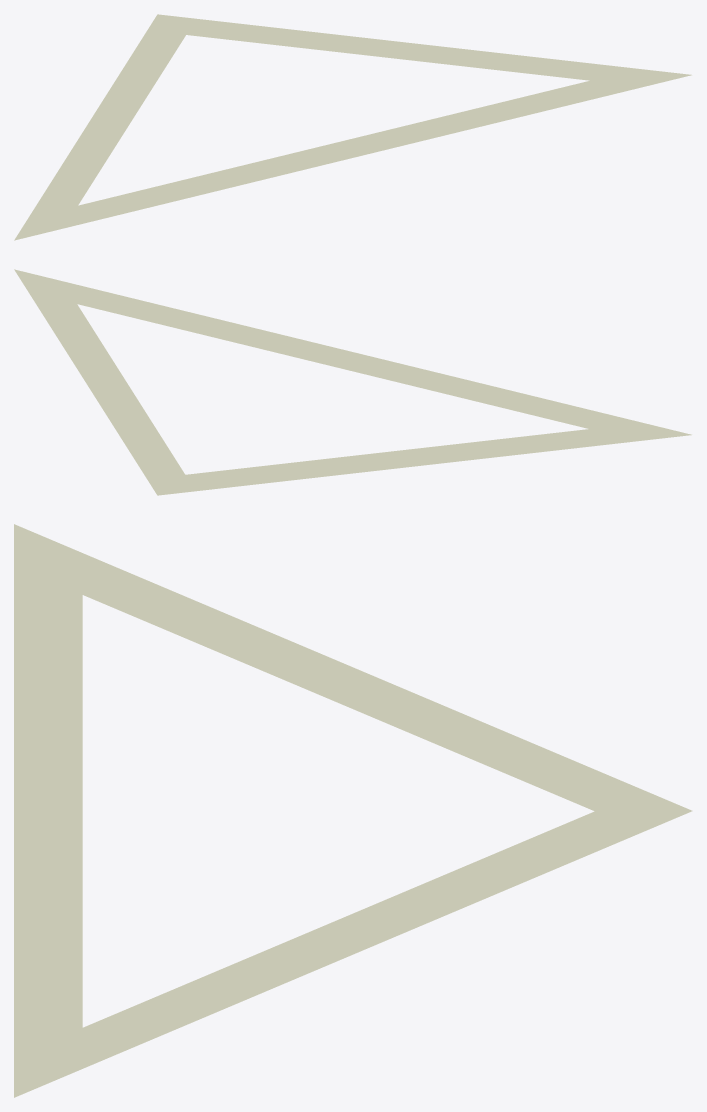
Rendered from triangle.fbx.
The picture shows the model from 3 angles, top to bottom: view 1: azimuth 30°, elevation 25°; view 2: azimuth 150°, elevation 25°; view 3: azimuth 270°, elevation 25°; orthographic projection. The views are drawn at different scales.
Parts seen in each view (by area): view 1: Model; view 2: Model; view 3: Model.
Boxes of the visible parts, x1,y1,x2,y2 form: Model: (14,14,691,240); Model: (14,269,691,495); Model: (14,524,692,1097).
Size of the model in its own units: 212 by 5.68e-14 by 106.
